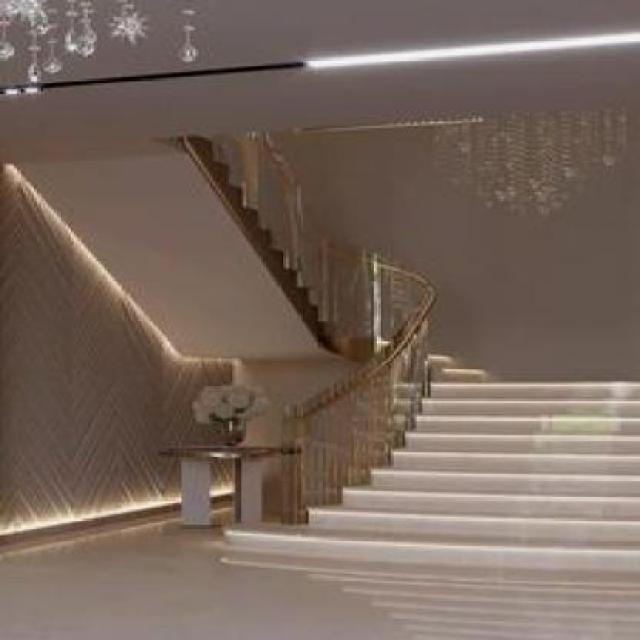stair: (183, 352, 639, 571)
